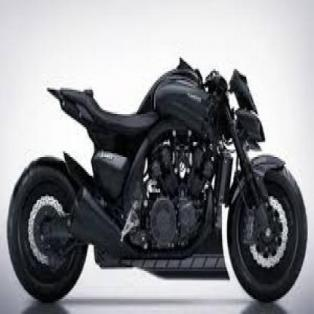Motocicleta: (6, 48, 307, 304)
